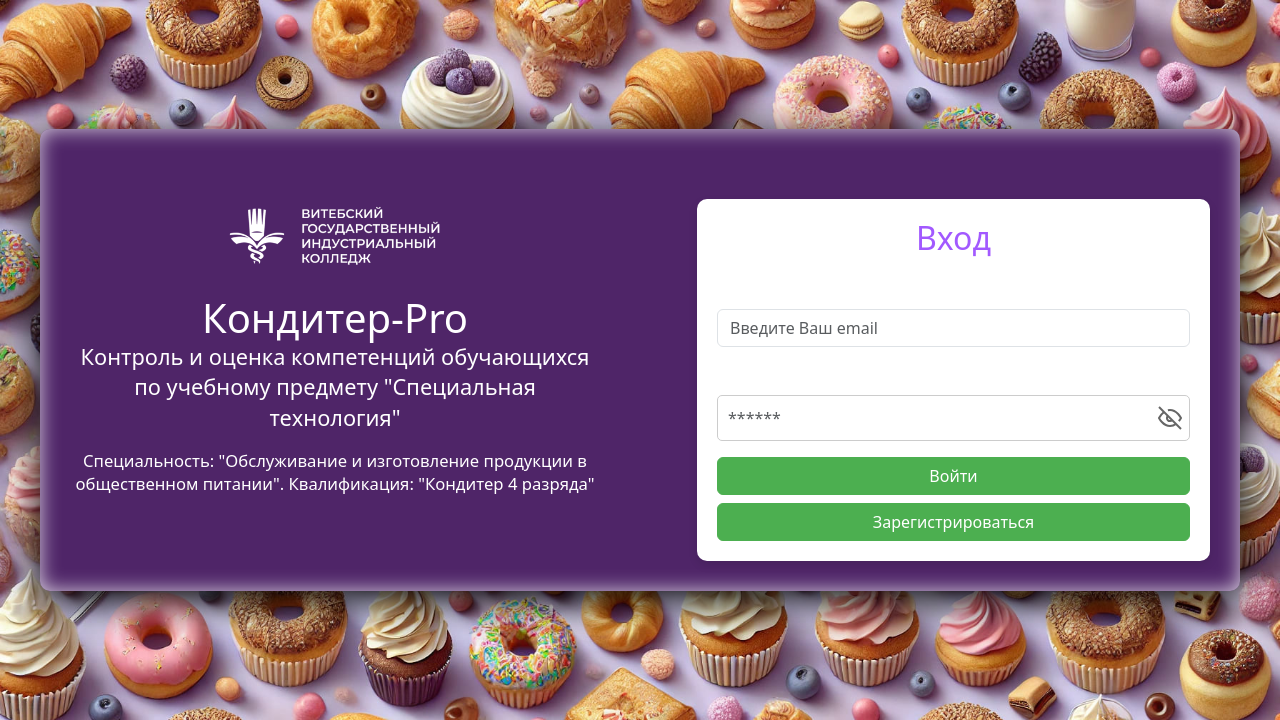
Scenario: Аутентификация › логинится и показывает каталог тем
This screenshot has width=1280, height=720.
Type "s@e.com" into the field with id "email". click: (954, 328)
box: [717, 309, 1190, 347]
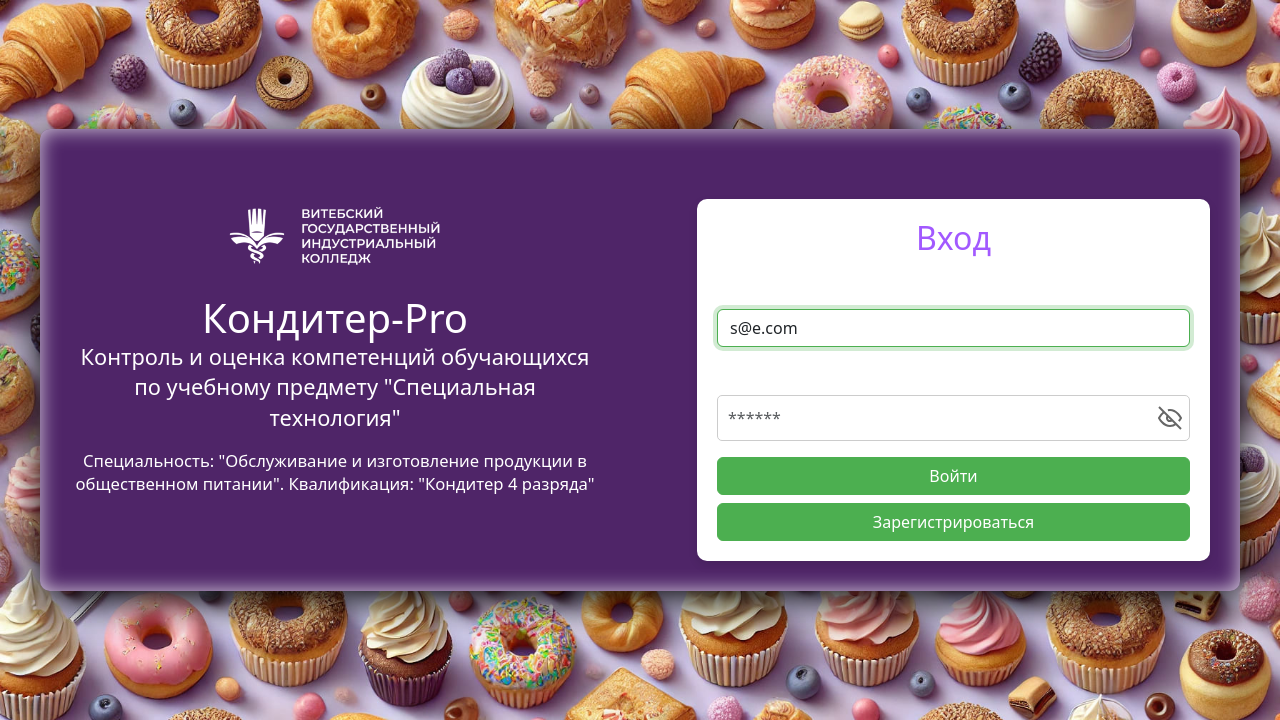
Type "Password123!" into the password field labelled "Пароль". click: (954, 418)
box: [717, 395, 1190, 441]
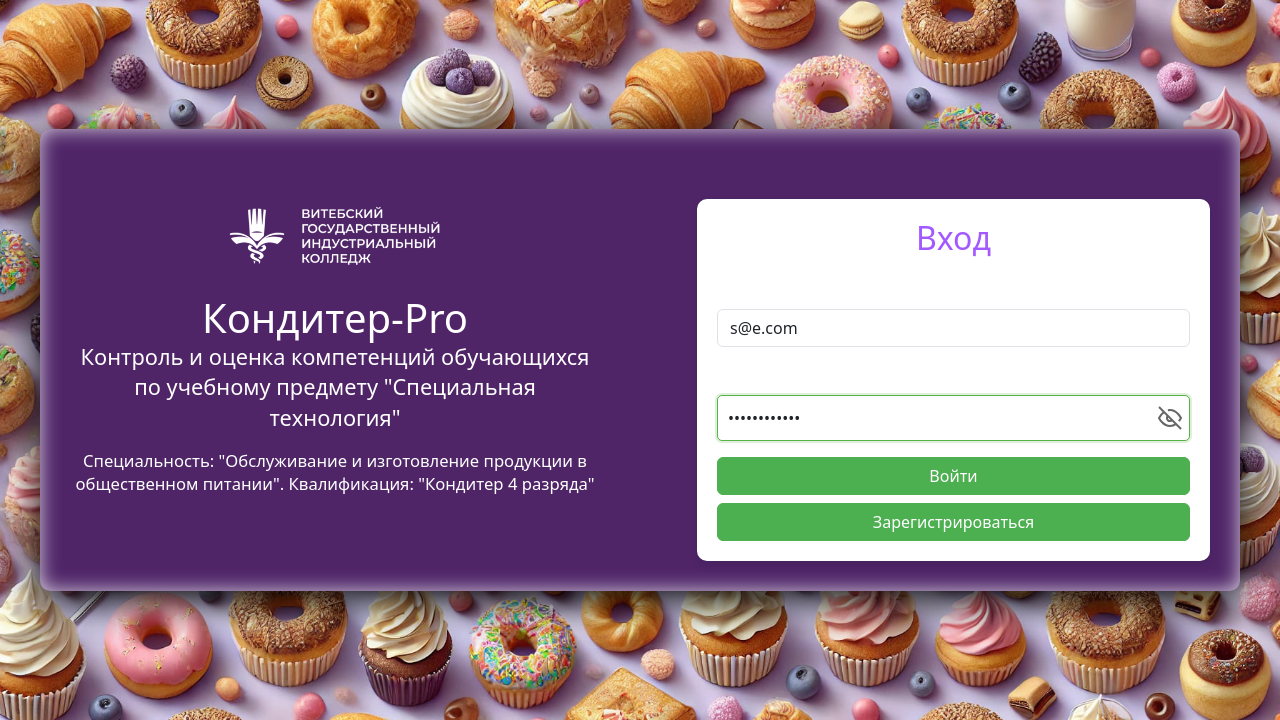
Click the button "Войти". click: (954, 476)
box: [717, 457, 1190, 495]
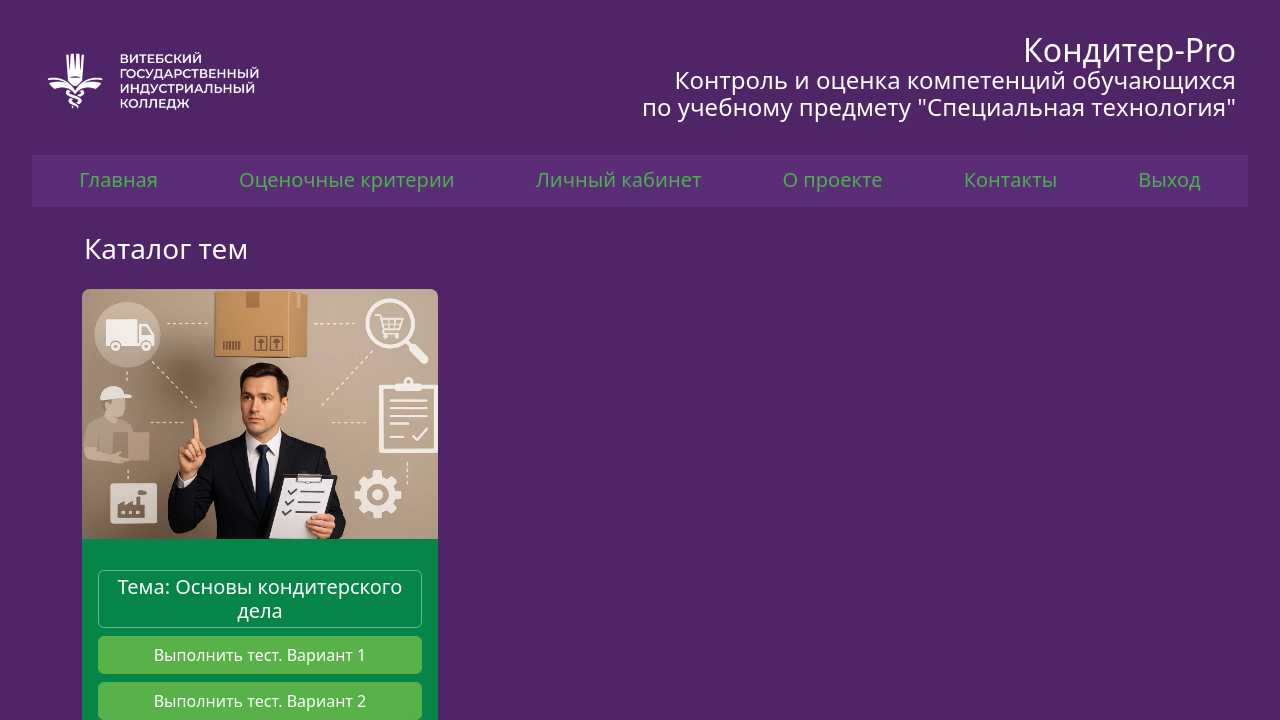
Now the element with id "topics-section" is shown, box [82, 265, 1198, 719]
Now the link "Тема: Основы кондитерского дела" is shown, box [98, 570, 422, 628]
